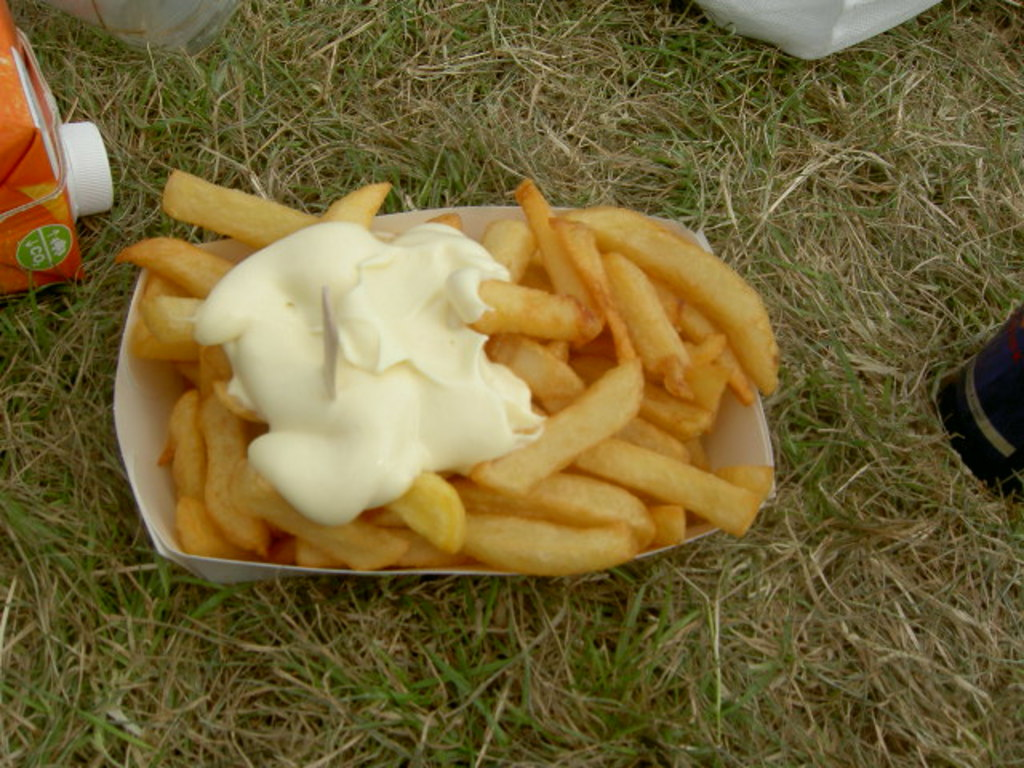French fries: (235, 176, 768, 588)
